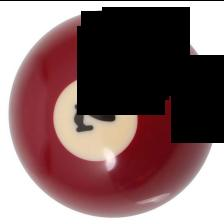red: (9, 9, 216, 216)
